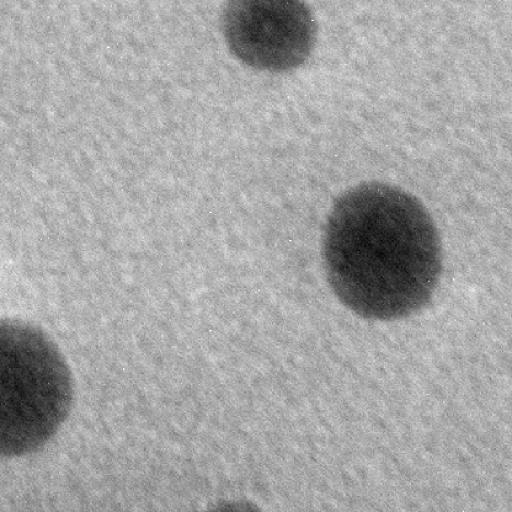Nanoparticles: (318, 179, 450, 325), (0, 316, 79, 463), (222, 0, 319, 77)
